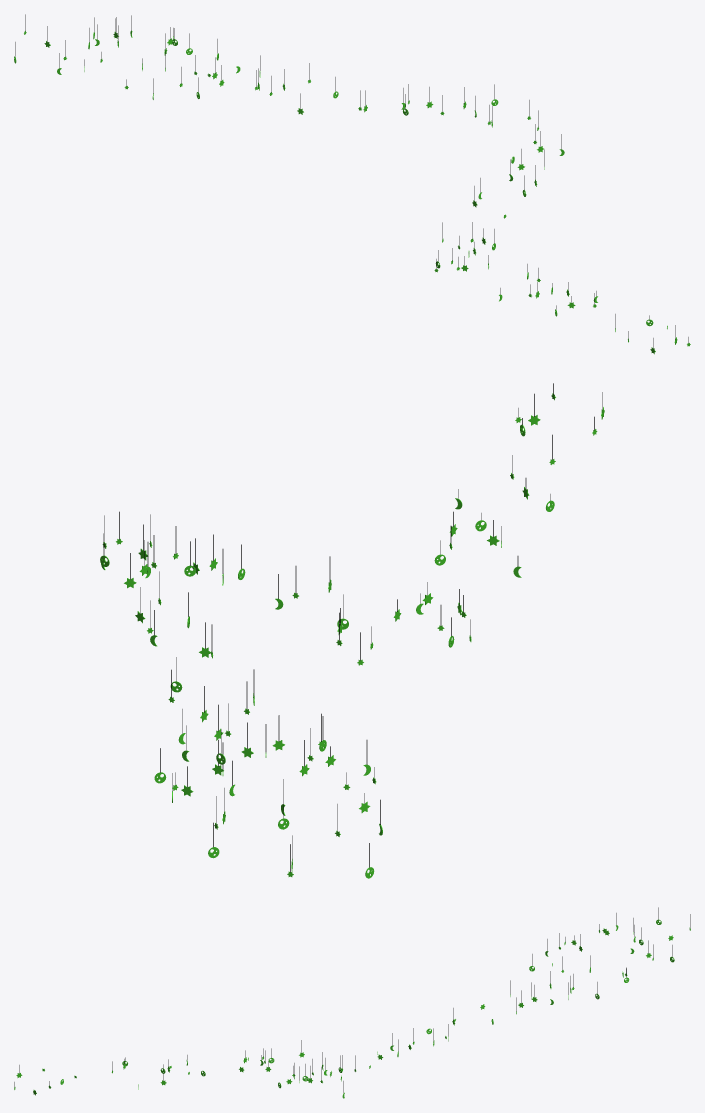
The model's file is Hanging_Stars_&_Moons_V3.FBX.
3 views of the same model, one above another, from view 1: azimuth 30°, elevation 25°; view 2: azimuth 150°, elevation 25°; view 3: azimuth 270°, elevation 25° (orthographic). The views are drawn at different scales.
Bounding box in the file's own units: 8290 × 2693 × 16577.
